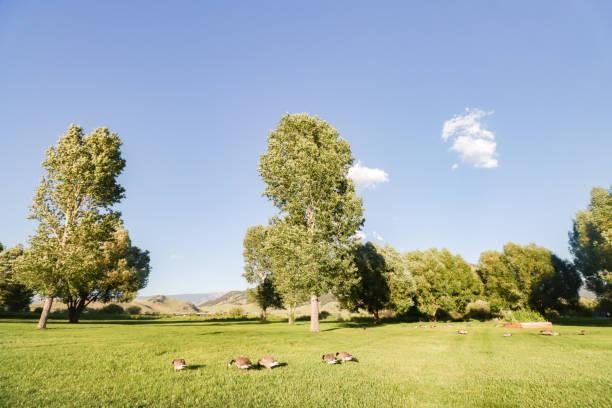Canadian-Goose: (227, 355, 252, 371), (257, 356, 281, 370), (171, 355, 189, 372), (337, 348, 354, 364), (320, 351, 337, 365)
